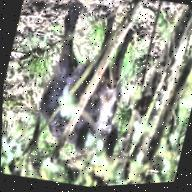boar: (15, 6, 157, 166)
